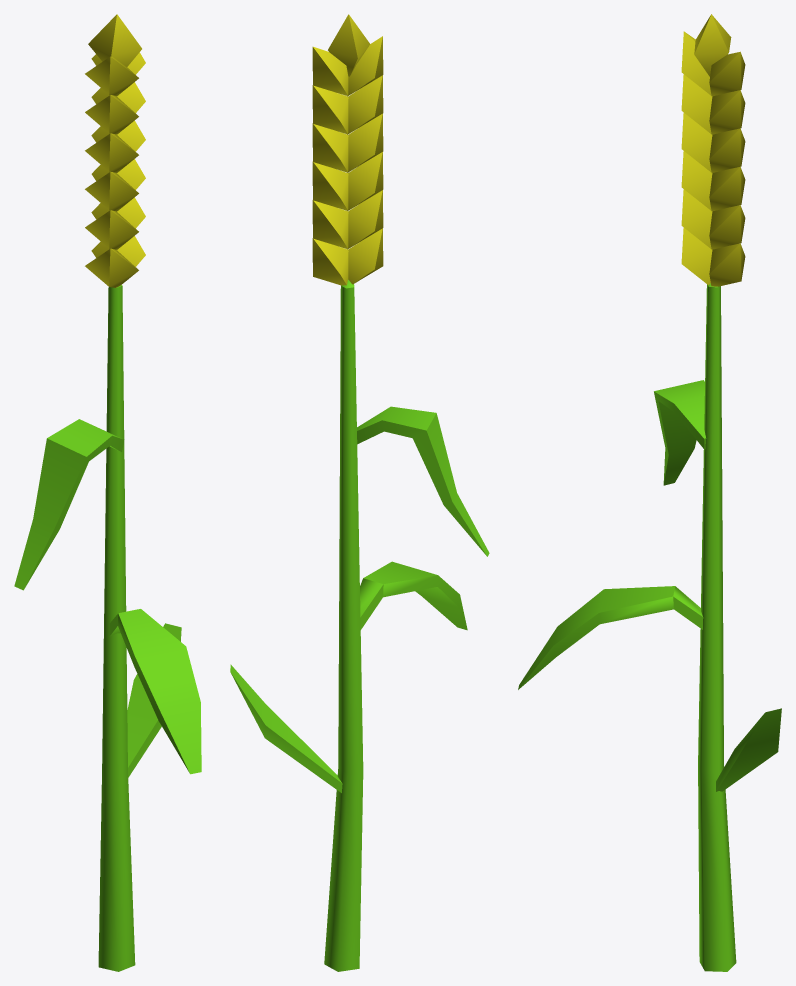
The model's file is SM_Wheat_2_c.FBX.
3 views of the same model, side by side, from view 1: azimuth 30°, elevation 25°; view 2: azimuth 150°, elevation 25°; view 3: azimuth 270°, elevation 25° (orthographic).
Visible parts, largest first — view 1: Wheat 3; view 2: Wheat 3; view 3: Wheat 3.
Part boxes in pixels (x1,y1,x2,y2): Wheat 3: [14, 14, 201, 971]; Wheat 3: [230, 14, 489, 971]; Wheat 3: [518, 14, 781, 971].
Size of the model in its own units: 1.38 by 5.9 by 1.48.
